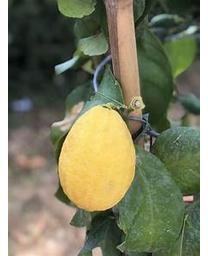lemon: (58, 107, 137, 211)
